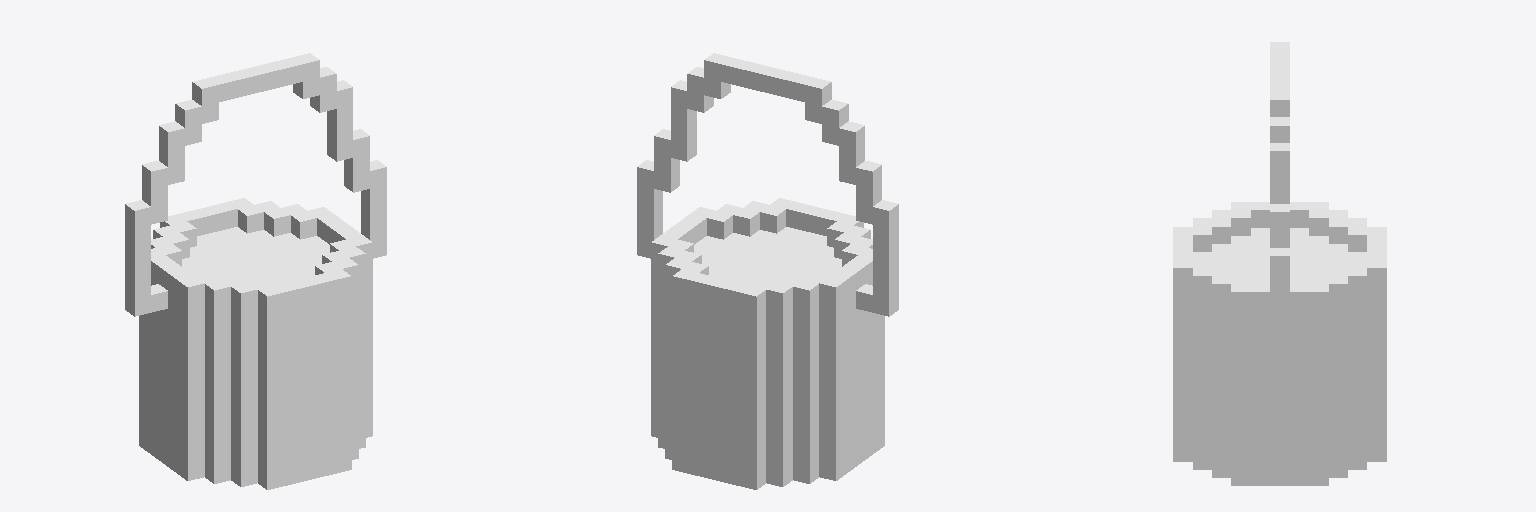
Rendered from Water_Pail.obj.
3 renders of one model, left to right at view 1: azimuth 30°, elevation 25°; view 2: azimuth 150°, elevation 25°; view 3: azimuth 270°, elevation 25°, orthographic.
Parts seen in each view (by area): view 1: Water_Pail; view 2: Water_Pail; view 3: Water_Pail.
Boxes of the visible parts, x1=… form: Water_Pail: x1=125, y1=53, x2=386, y2=489; Water_Pail: x1=637, y1=53, x2=898, y2=489; Water_Pail: x1=1173, y1=42, x2=1386, y2=485.
Size of the model in its own units: 15 by 21 by 11.